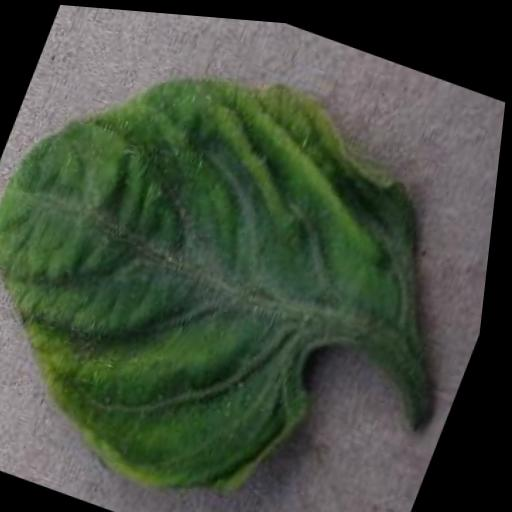Yellow Leaf Curl Virus: (0, 0, 495, 512)
